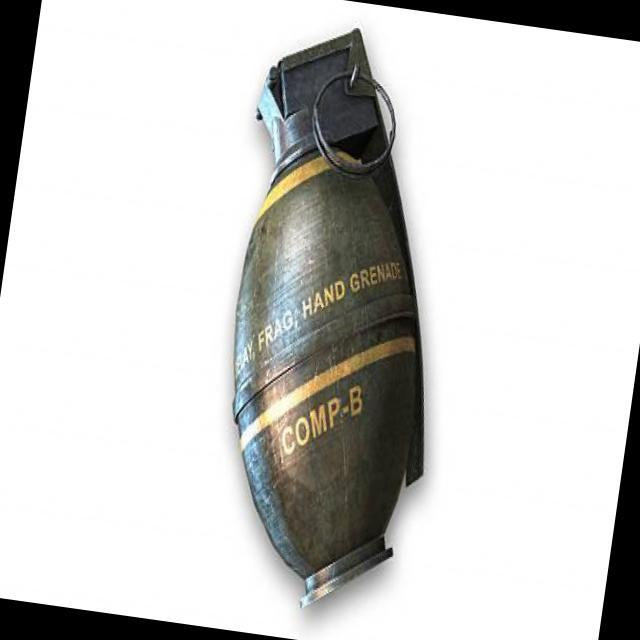grenade: (178, 13, 490, 624)
